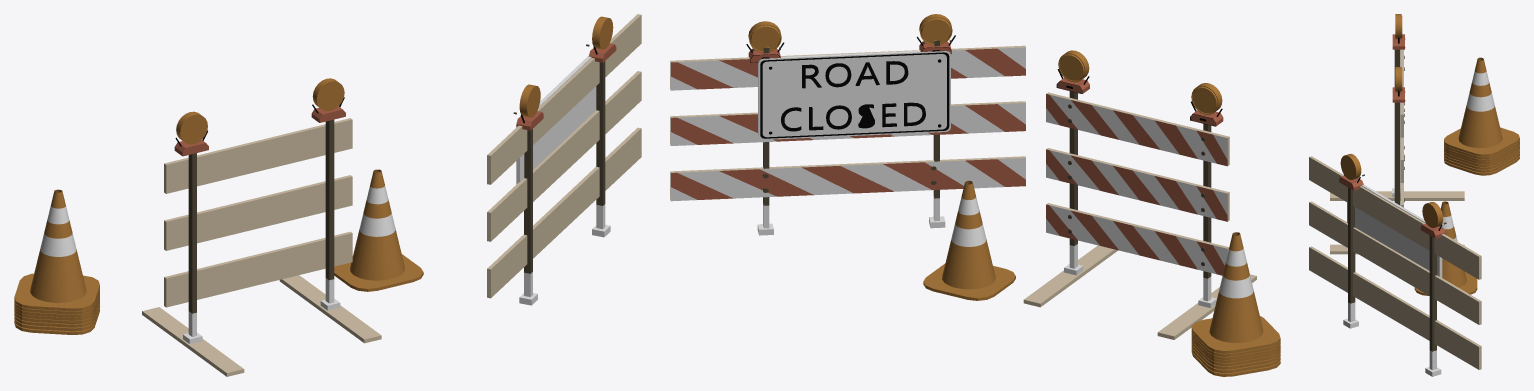
The model's file is UPLOAD_ROADSIGNS.fbx.
The picture shows the model from 3 angles, left to right: view 1: azimuth 30°, elevation 25°; view 2: azimuth 150°, elevation 25°; view 3: azimuth 270°, elevation 25°; orthographic projection. The views are drawn at different scales.
Parts seen in each view (by area): view 1: polySurface101, polySurface27, polySurface9, polySurface10, polySurface8, polySurface22, polySurface2, pCube2, pCube3, polySurface4, pCylinder13, pCylinder12; view 2: polySurface101, polySurface27, polySurface10, polySurface9, polySurface8, polySurface22, pCube3, pCube2, polySurface2, polySurface4, pCylinder12, pCylinder13; view 3: polySurface101, polySurface27, polySurface22, pCube2, polySurface2, polySurface10, pCylinder12, pCylinder13, pCube3.
Part boxes in pixels (bbox=[...]): polySurface101: bbox=[487, 14, 641, 305]; polySurface27: bbox=[14, 189, 99, 334]; polySurface9: bbox=[164, 175, 352, 250]; polySurface10: bbox=[164, 118, 352, 193]; polySurface8: bbox=[164, 231, 352, 307]; polySurface22: bbox=[334, 169, 423, 291]; polySurface2: bbox=[325, 119, 334, 303]; pCube2: bbox=[142, 307, 244, 376]; pCube3: bbox=[279, 275, 381, 343]; polySurface4: bbox=[188, 153, 196, 336]; pCylinder13: bbox=[176, 111, 207, 144]; pCylinder12: bbox=[312, 78, 344, 110]; polySurface101: bbox=[670, 14, 1025, 235]; polySurface27: bbox=[1191, 232, 1280, 376]; polySurface10: bbox=[1046, 92, 1229, 166]; polySurface9: bbox=[1046, 148, 1229, 221]; polySurface8: bbox=[1046, 203, 1229, 275]; polySurface22: bbox=[923, 180, 1015, 300]; pCube3: bbox=[1023, 245, 1117, 307]; pCube2: bbox=[1157, 274, 1256, 339]; polySurface2: bbox=[1069, 91, 1077, 268]; polySurface4: bbox=[1203, 124, 1211, 301]; pCylinder12: bbox=[1058, 50, 1089, 82]; pCylinder13: bbox=[1191, 83, 1222, 114]; polySurface101: bbox=[1309, 154, 1481, 376]; polySurface27: bbox=[1444, 57, 1519, 175]; polySurface22: bbox=[1414, 201, 1477, 295]; pCube2: bbox=[1330, 191, 1464, 200]; polySurface2: bbox=[1394, 102, 1400, 205]; polySurface10: bbox=[1400, 49, 1403, 137]; pCylinder12: bbox=[1395, 67, 1402, 92]; pCylinder13: bbox=[1395, 14, 1402, 39]; pCube3: bbox=[1330, 244, 1464, 254].
Bounding box in the file's own units: 91.95 × 33.92 × 33.85.
